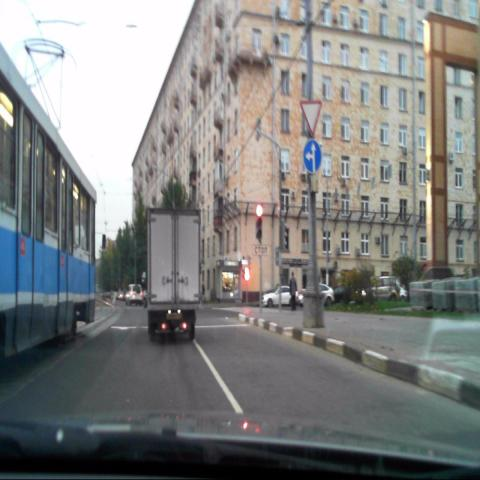4_1_5: (304, 139, 322, 174)
